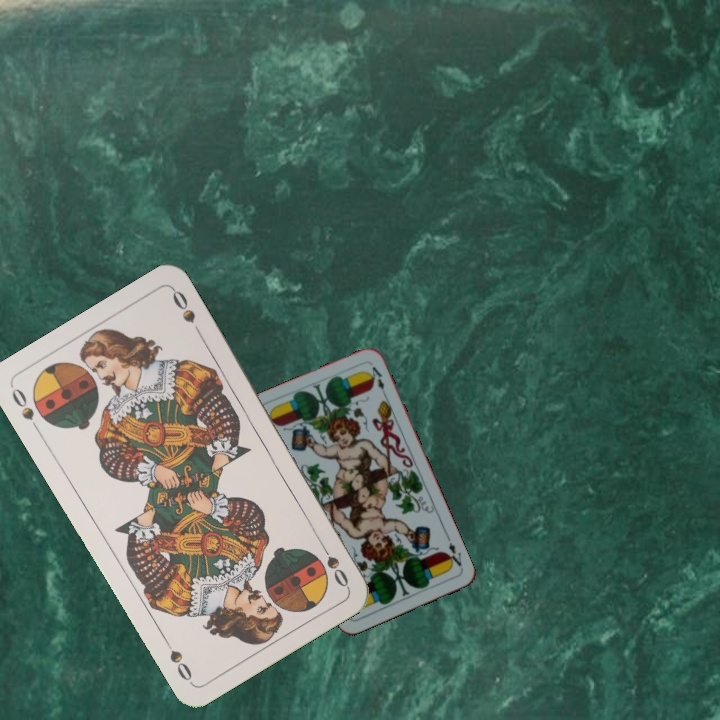EA: (442, 538, 465, 572)
SO: (314, 536, 351, 590), (7, 383, 44, 437)
